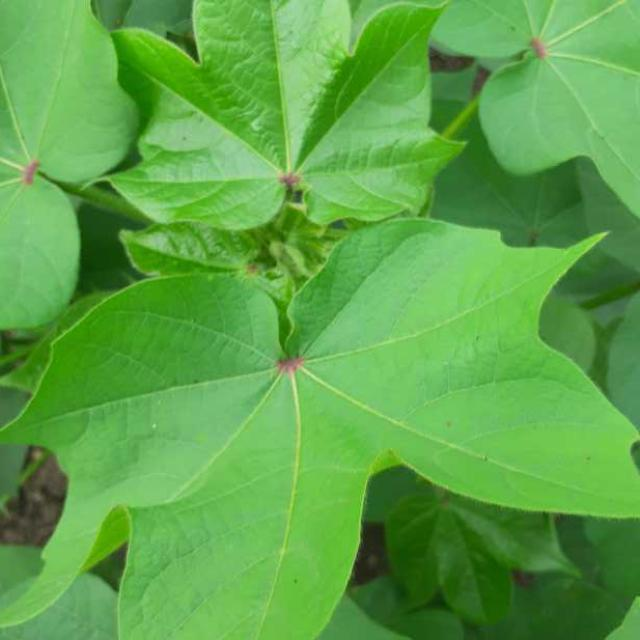Healthy Leaf: (11, 17, 640, 639)
